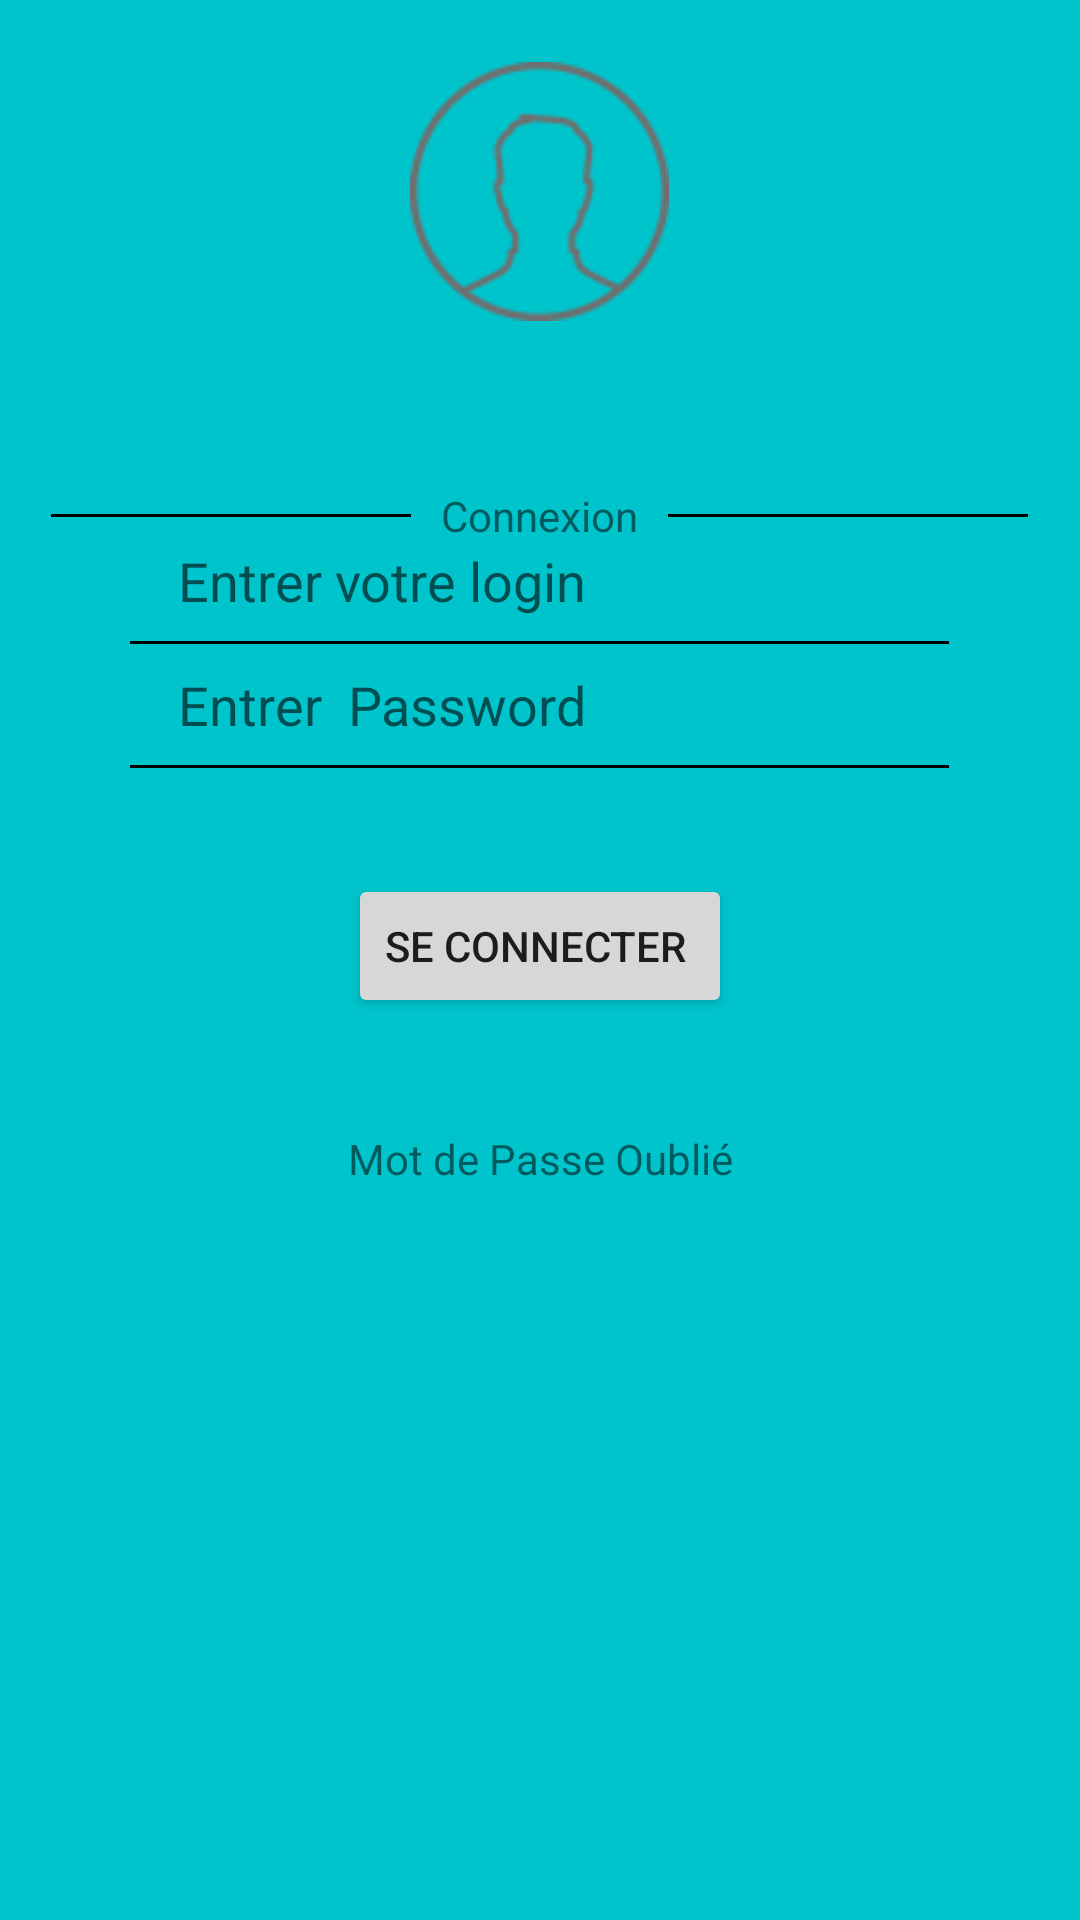

Where to tap for icons on this 1080 × 1920 app screen, as [x,y]:
profil: [539,191]
